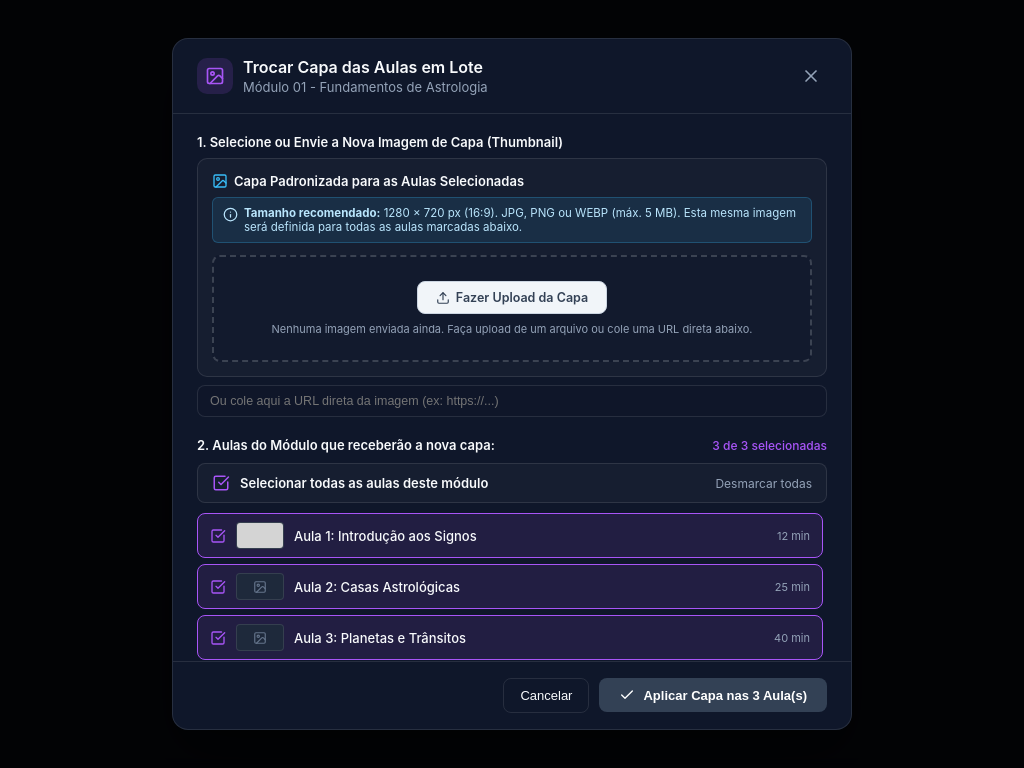
Test: BatchLessonThumbnailModal › permite desmarcar e marcar uma aula individualmente
Expected: the text "3 de 3 selecionadas" is shown, [712,438,827,453]
Step 1. Click the element with test id "batch-lesson-row-101" → (510, 536), box [197,513,823,558]
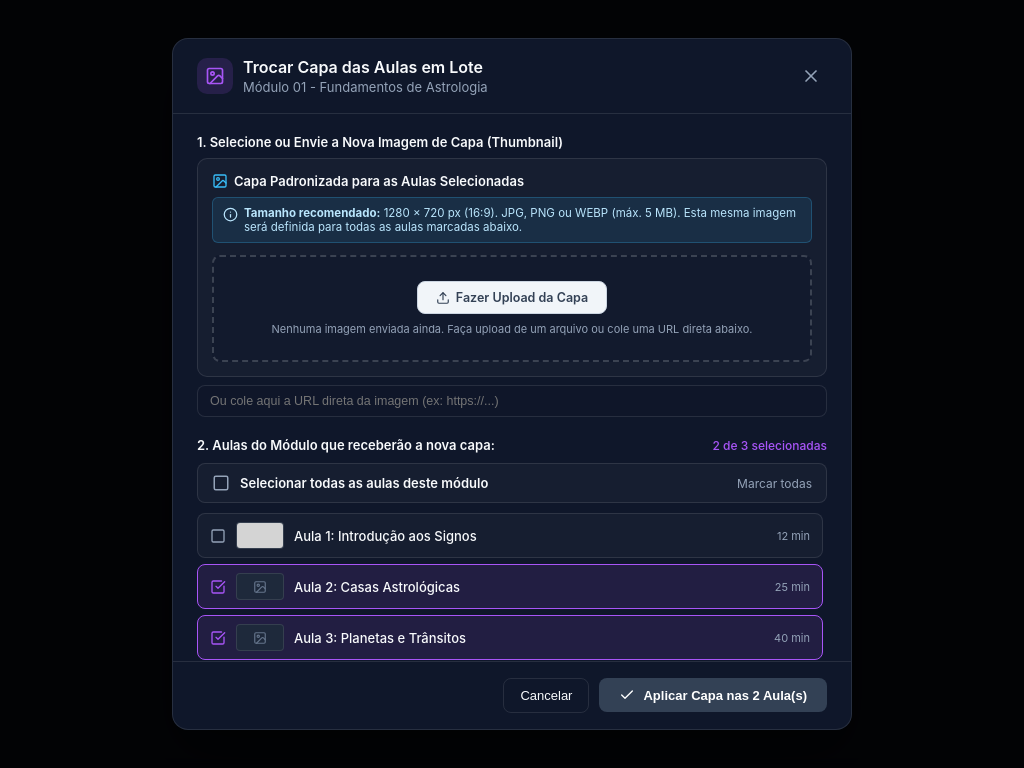
Expected: the text "2 de 3 selecionadas" is shown, [712,438,827,453]
Clica novamente para remarcar
Step 2. Click the element with test id "batch-lesson-row-101" → (510, 536), box [197,513,823,558]
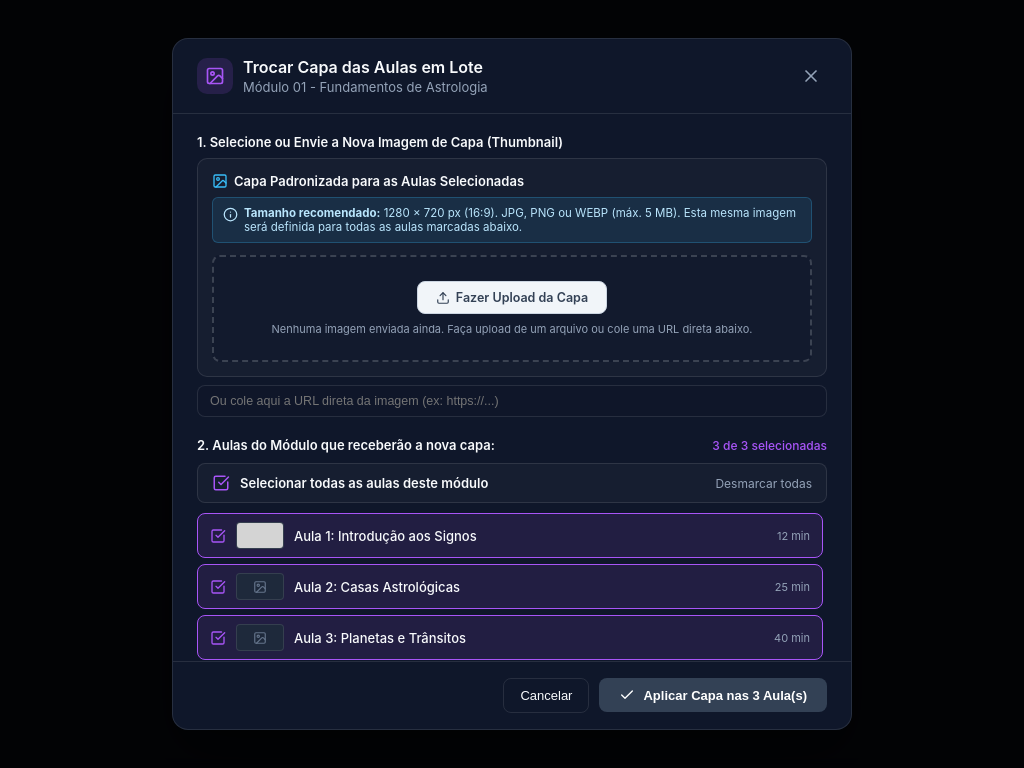
Expected: the text "3 de 3 selecionadas" is shown, [712,438,827,453]
